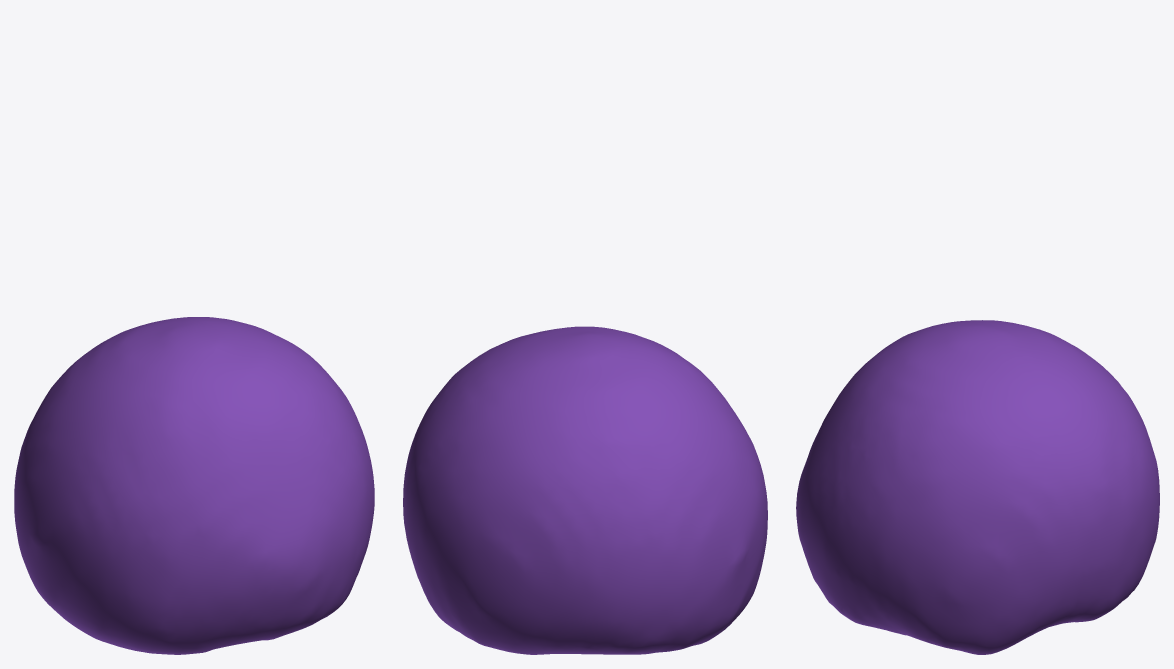
The model's file is slime_0031.dae.
3 renders of one model, left to right at view 1: azimuth 30°, elevation 25°; view 2: azimuth 150°, elevation 25°; view 3: azimuth 270°, elevation 25°, orthographic. The views are drawn at different scales.
Parts seen in each view (by area): view 1: Slime; view 2: Slime; view 3: Slime.
Part boxes in pixels (<box>): Slime: <box>14,317,374,654</box>; Slime: <box>403,326,767,654</box>; Slime: <box>796,320,1159,654</box>.
Size of the model in its own units: 2.04 by 3.68 by 2.07.
